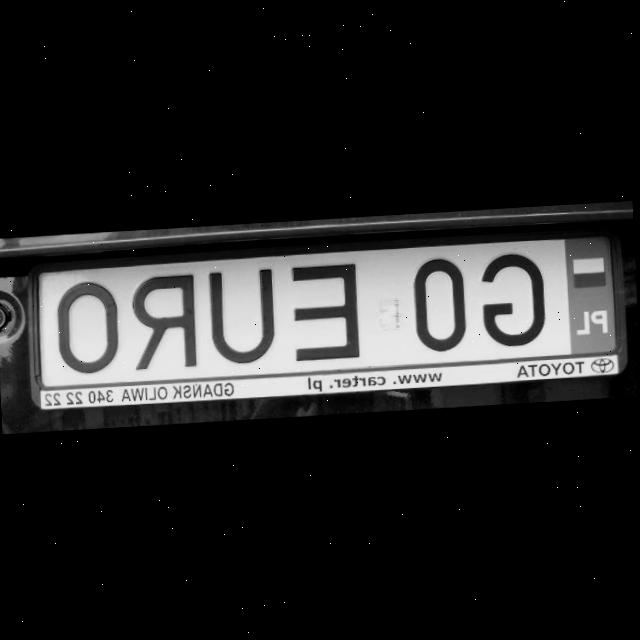license-plates: (37, 236, 616, 390)
